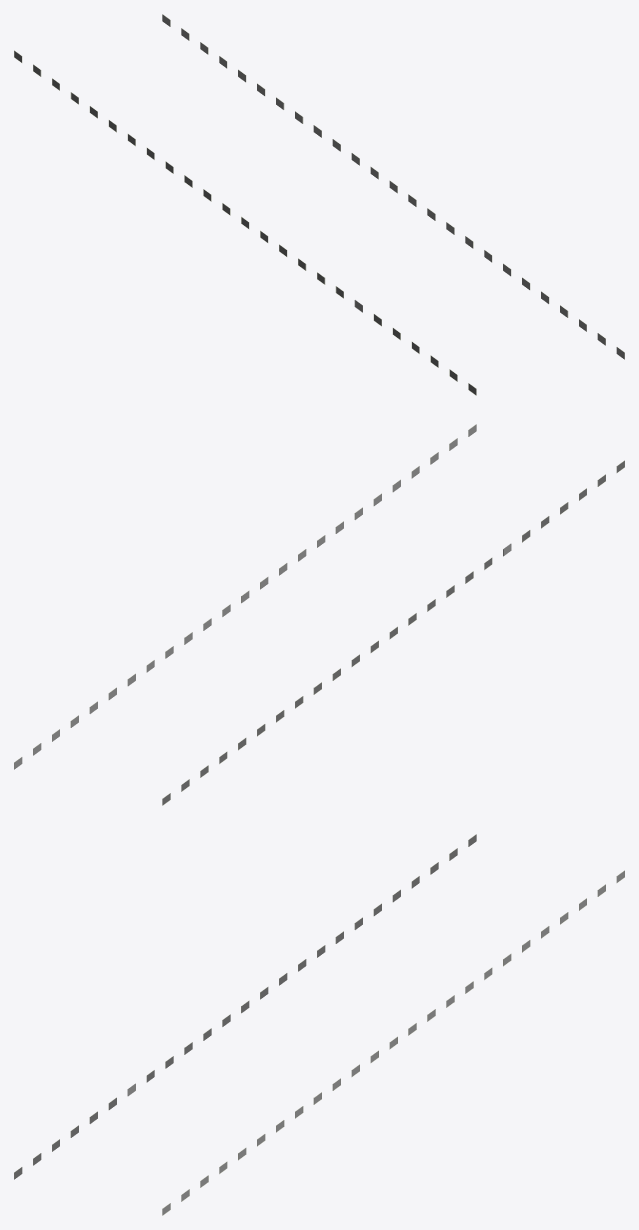
The model's file is Museum Sponsor Posters .fbx.
3 renders of one model, top to bottom at view 1: azimuth 30°, elevation 25°; view 2: azimuth 150°, elevation 25°; view 3: azimuth 330°, elevation 25°, orthographic.
Size of the model in its own units: 10.01 by 0.457 by 53.84.
3 materials, 1 textured.
